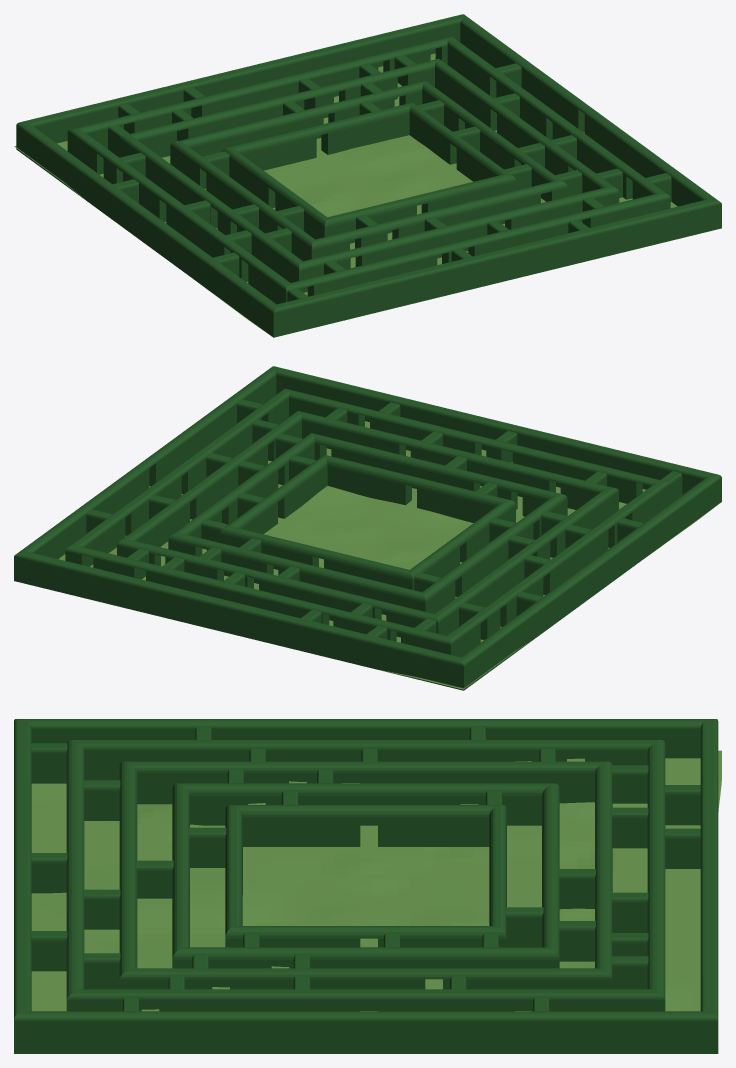
The model's file is Maze 7.fbx.
3 views of the same model, one above another, from view 1: azimuth 30°, elevation 25°; view 2: azimuth 150°, elevation 25°; view 3: azimuth 270°, elevation 25° (orthographic). The views are drawn at different scales.
Visible parts, largest first — view 1: Walls 1.007, Walls 2.007, Walls 3.007, Walls 4.008, Walls 5.007, Floor.008; view 2: Walls 1.007, Walls 2.007, Walls 3.007, Walls 4.008, Walls 5.007, Floor.008; view 3: Walls 1.007, Floor.008, Walls 2.007, Walls 3.007, Walls 4.008, Walls 5.007, Bush Blocker.210, Bush Blocker.203, Bush Blocker.205, Bush Blocker.208, Bush Blocker.197, Bush Blocker.201 (+12 smaller).
Part boxes in pixels (bbox=[...]): Walls 1.007: bbox=[16, 14, 721, 337]; Walls 2.007: bbox=[67, 36, 670, 304]; Walls 3.007: bbox=[119, 58, 619, 292]; Walls 4.008: bbox=[170, 80, 567, 261]; Walls 5.007: bbox=[222, 102, 516, 243]; Floor.008: bbox=[14, 53, 677, 331]; Walls 1.007: bbox=[14, 366, 721, 690]; Walls 2.007: bbox=[65, 388, 670, 657]; Walls 3.007: bbox=[117, 411, 618, 637]; Walls 4.008: bbox=[168, 433, 567, 614]; Walls 5.007: bbox=[220, 455, 515, 589]; Floor.008: bbox=[58, 421, 714, 689]; Walls 1.007: bbox=[14, 719, 718, 1053]; Floor.008: bbox=[31, 750, 721, 1011]; Walls 2.007: bbox=[66, 740, 665, 1011]; Walls 3.007: bbox=[119, 761, 612, 1010]; Walls 4.008: bbox=[172, 783, 559, 988]; Walls 5.007: bbox=[225, 805, 506, 968]; Bush Blocker.210: bbox=[611, 807, 648, 848]; Bush Blocker.203: bbox=[188, 827, 226, 867]; Bush Blocker.205: bbox=[558, 921, 595, 961]; Bush Blocker.208: bbox=[611, 892, 648, 932]; Bush Blocker.197: bbox=[31, 743, 67, 783]; Bush Blocker.201: bbox=[84, 780, 120, 820].
Bounding box in the file's own units: 6009 × 368 × 5992.
